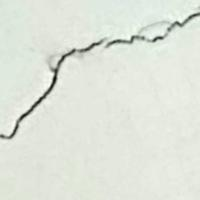crack: (0, 12, 199, 148)
